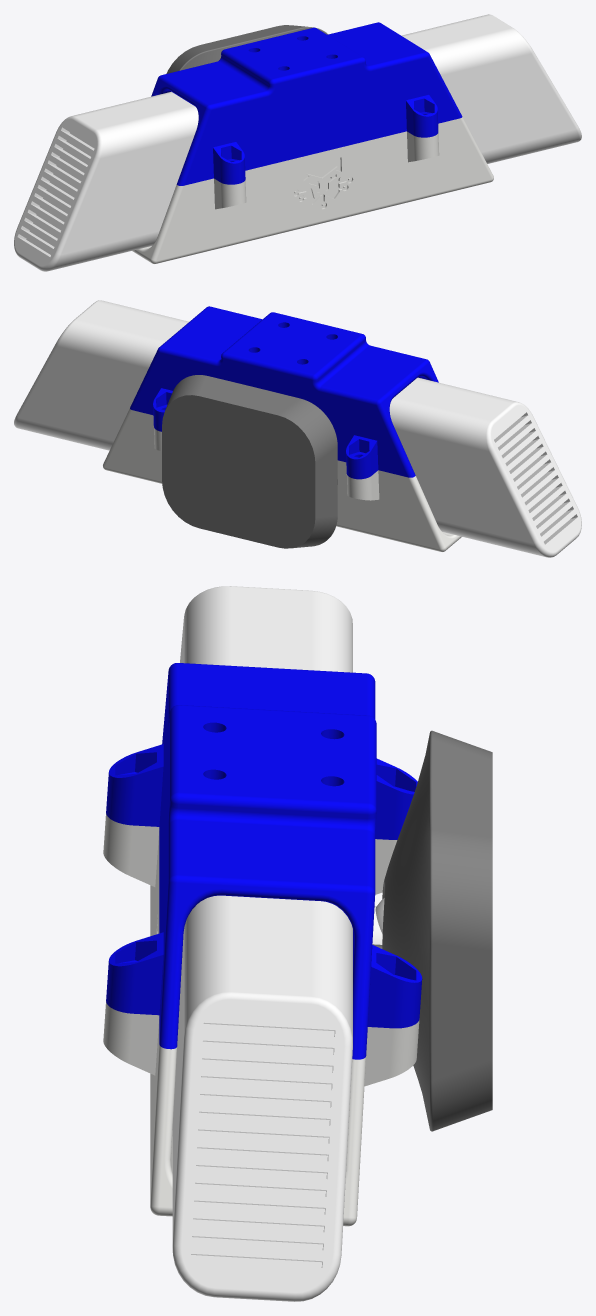
Rendered from Kinect_v4.fbx.
3 views of the same model, one above another, from view 1: azimuth 30°, elevation 25°; view 2: azimuth 150°, elevation 25°; view 3: azimuth 270°, elevation 25° (orthographic). The views are drawn at different scales.
Parts seen in each view (by area): view 1: Body1 (×3), Body10; view 2: Body1 (×3), Body10; view 3: Body1 (×3), Body10.
Part boxes in pixels (bbox=[...]): Body1 (×3): bbox=[14, 14, 581, 271]; Body10: bbox=[151, 22, 462, 185]; Body1 (×3): bbox=[14, 300, 581, 557]; Body10: bbox=[130, 306, 438, 479]; Body1 (×3): bbox=[103, 586, 492, 1301]; Body10: bbox=[106, 663, 422, 1059].
Size of the model in its own units: 279 by 81.48 by 87.4.
